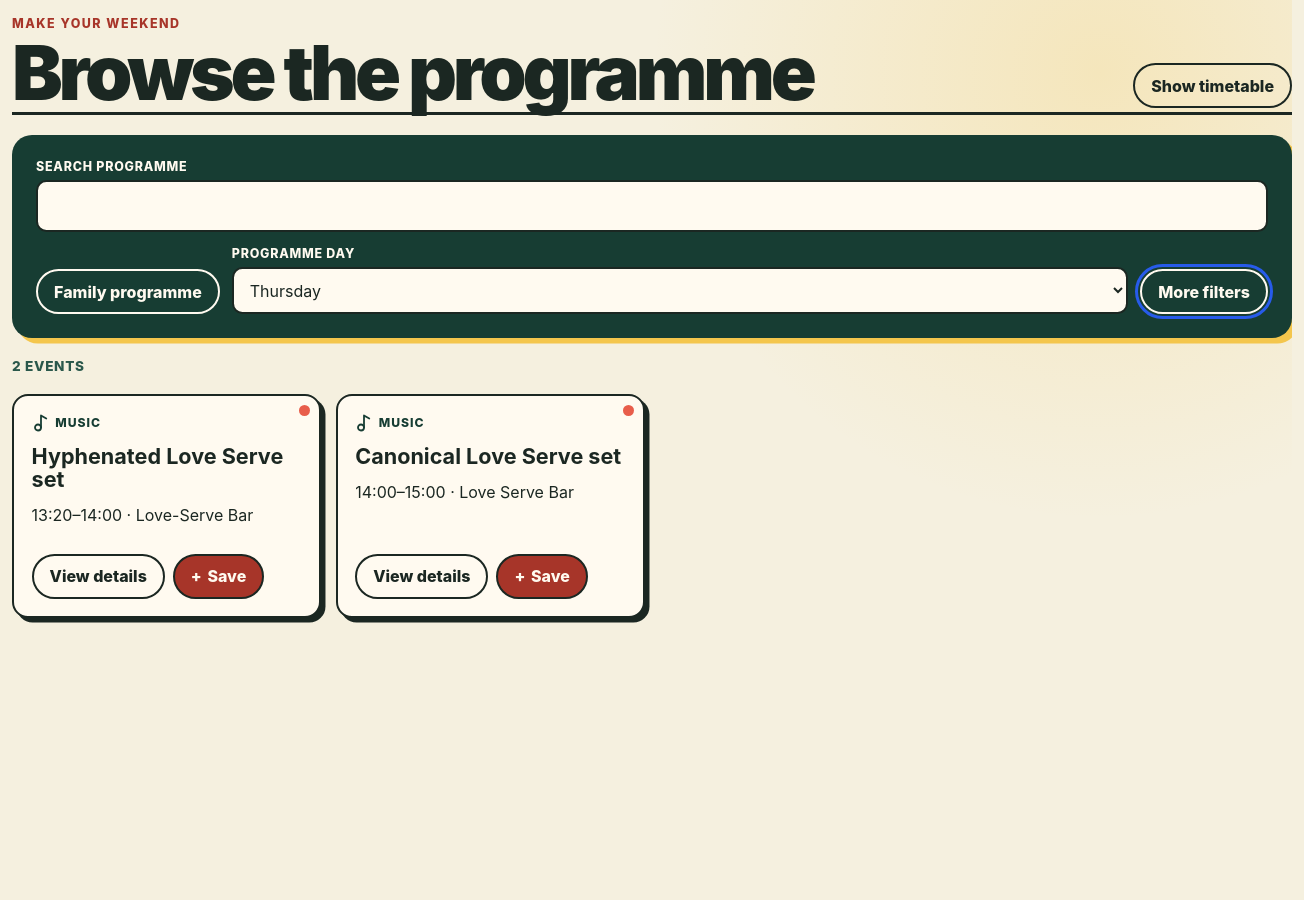
Scenario: BrowseView › discloses canonical secondary filters and clears them through planner state
Expected: the dropdown labelled "Venue" is not shown
Expected: the button "Family programme" is shown, [36,269,220,314]
Press Enter
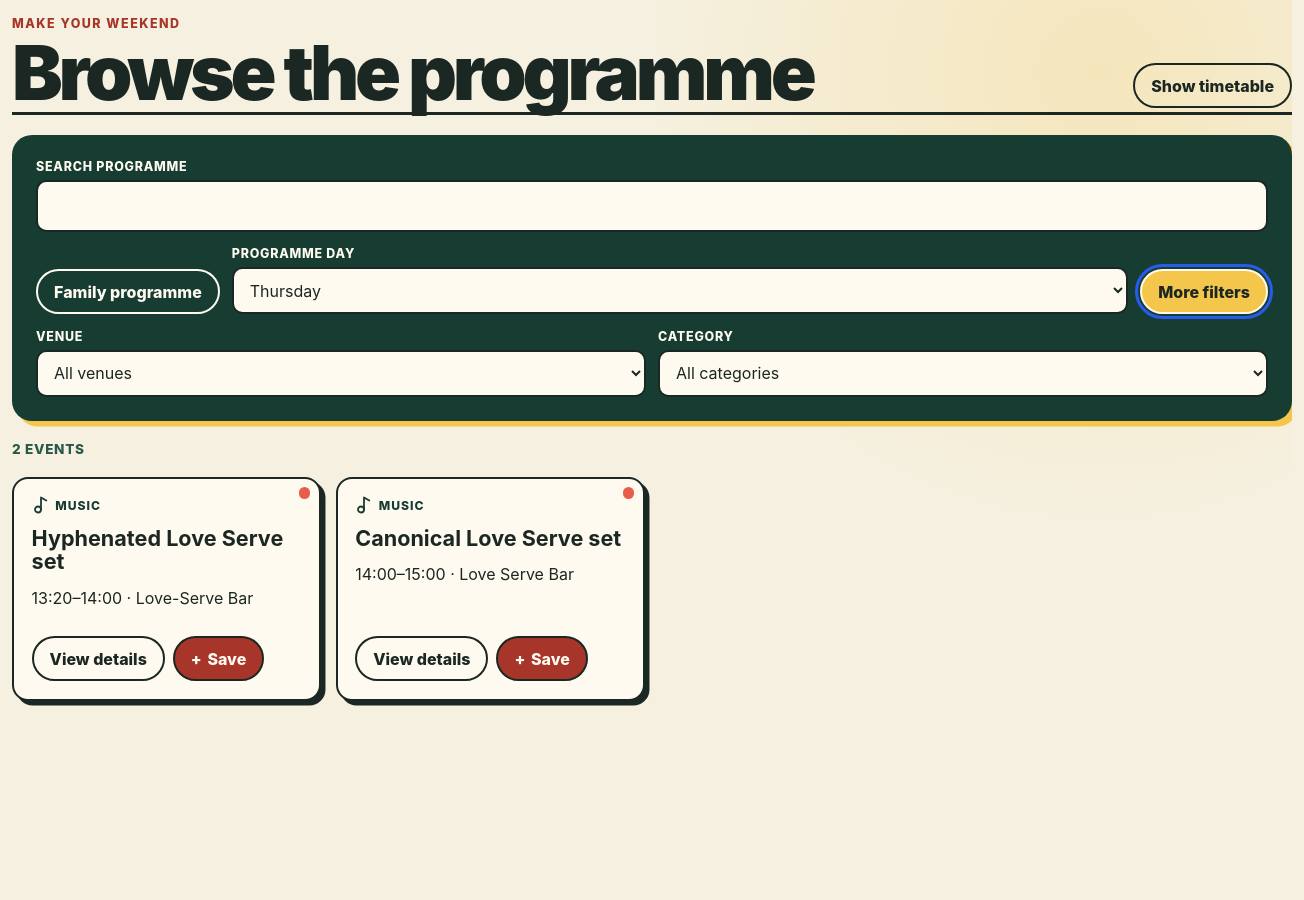
Result: the button "More filters" is expanded at [1140,269,1268,314]
Press Enter
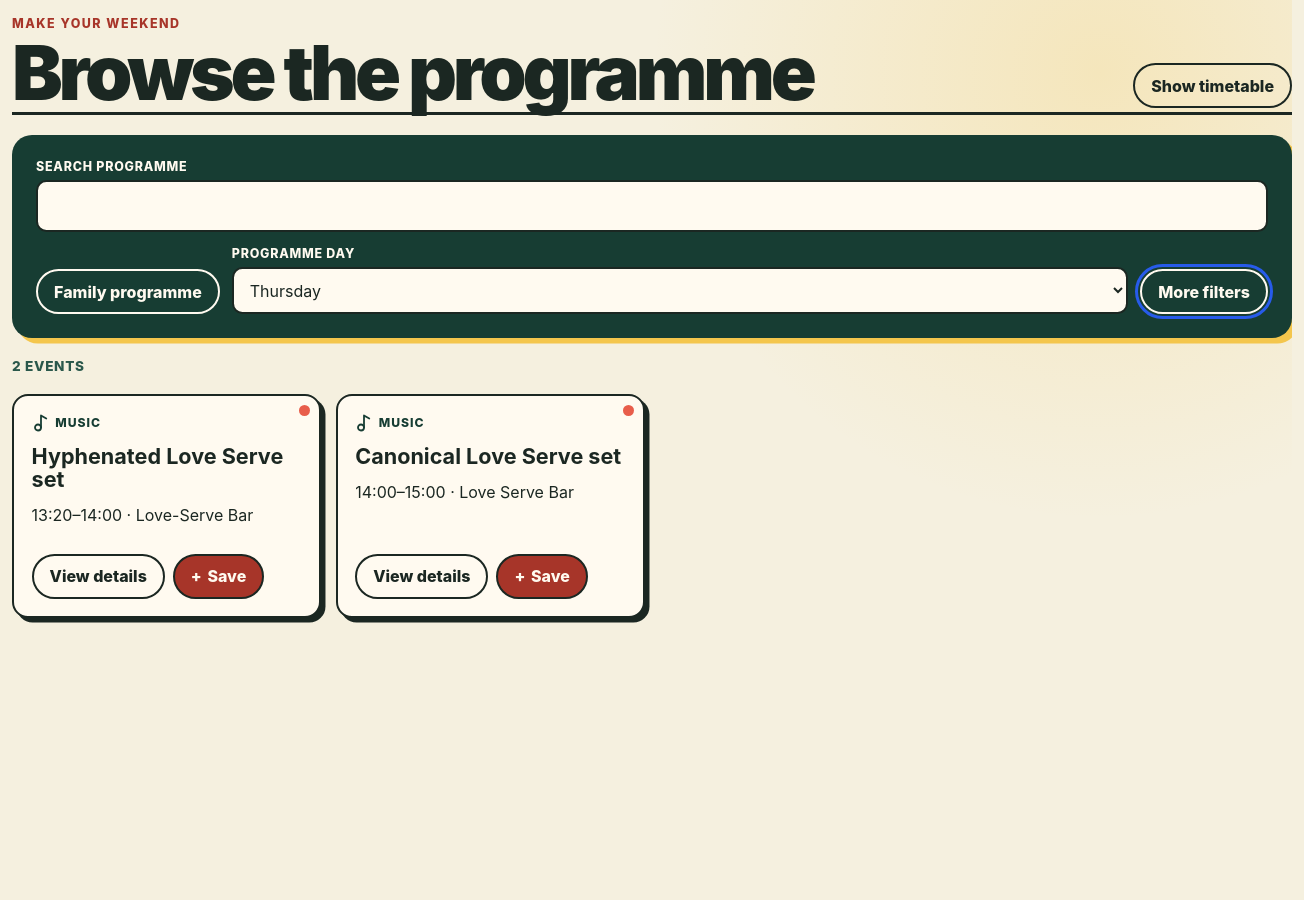
Result: the button "More filters" is collapsed
Result: the text "Venue" is gone
Click the button "More filters" at (1204,292), box [1140,269,1268,314]
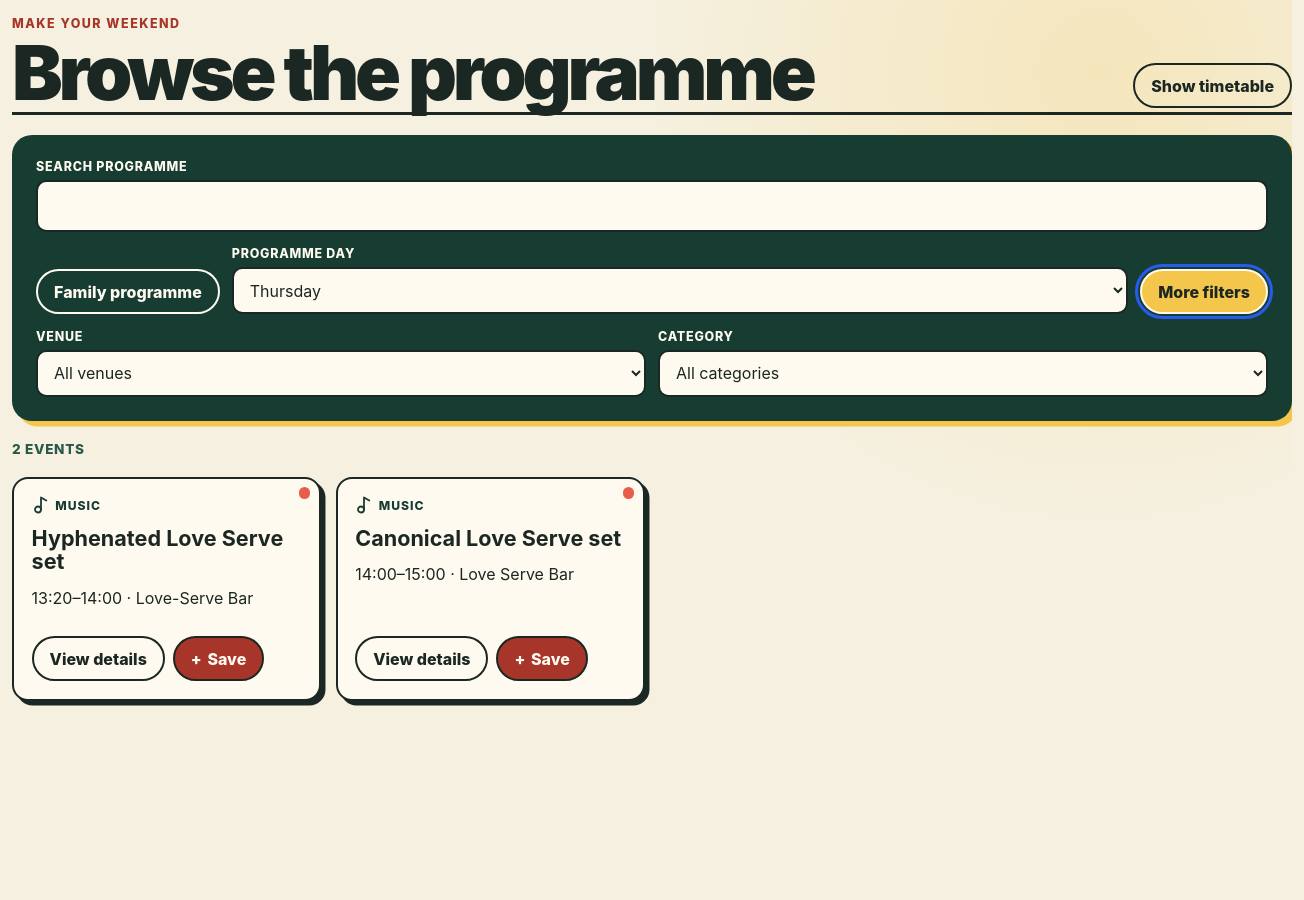
Result: the button "More filters" is expanded at [1140,269,1268,314]
Select "Love Serve Bar" in the dropdown labelled "Venue" at (341,373), box [36,350,646,397]
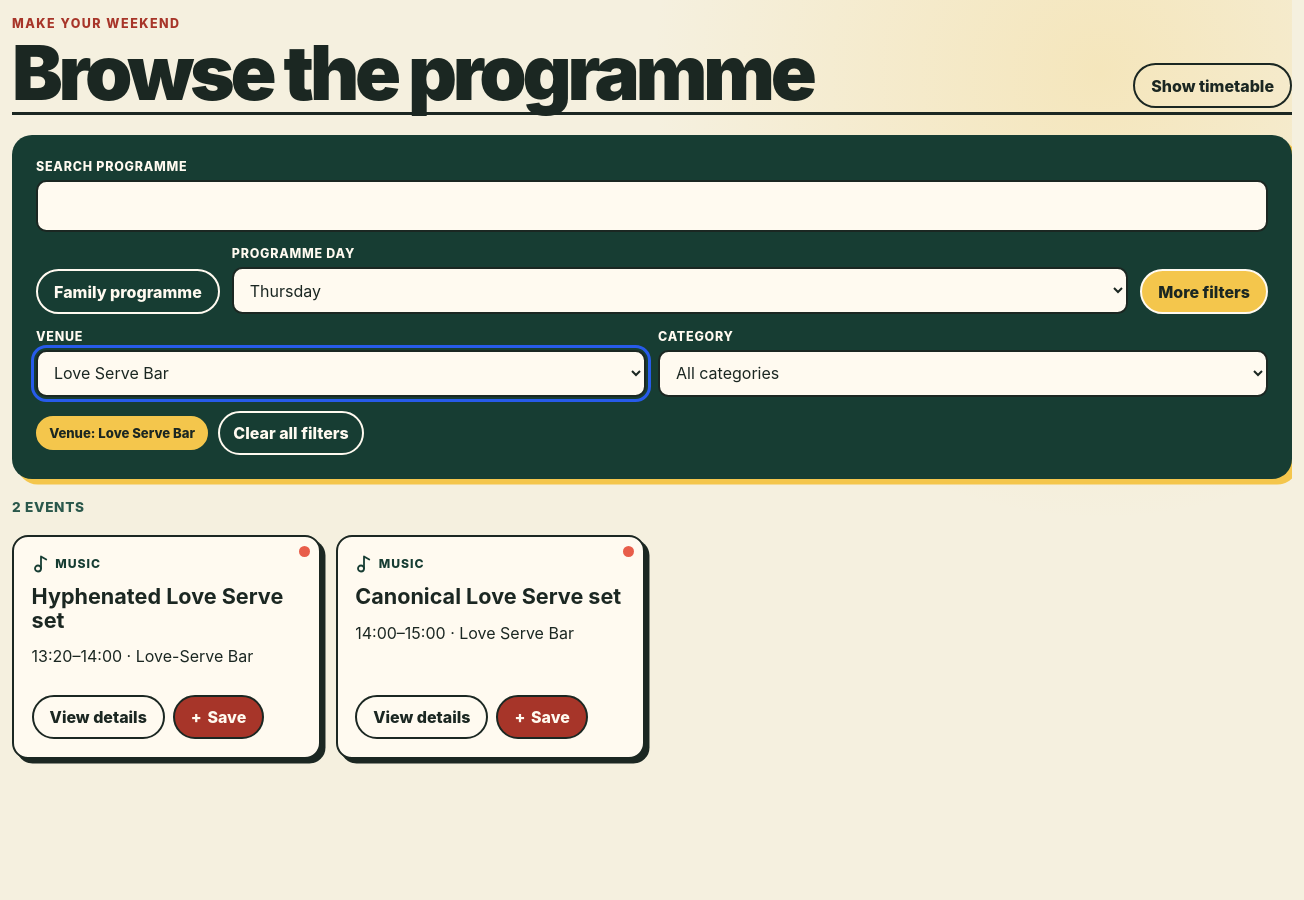
Expected: the element "Hyphenated Love Serve set" is shown, [12,535,321,759]
Result: the text "Venue: Love Serve Bar" is shown at [36,416,208,450]
Click the button "Clear all filters" at (291,433), box [218,411,364,455]
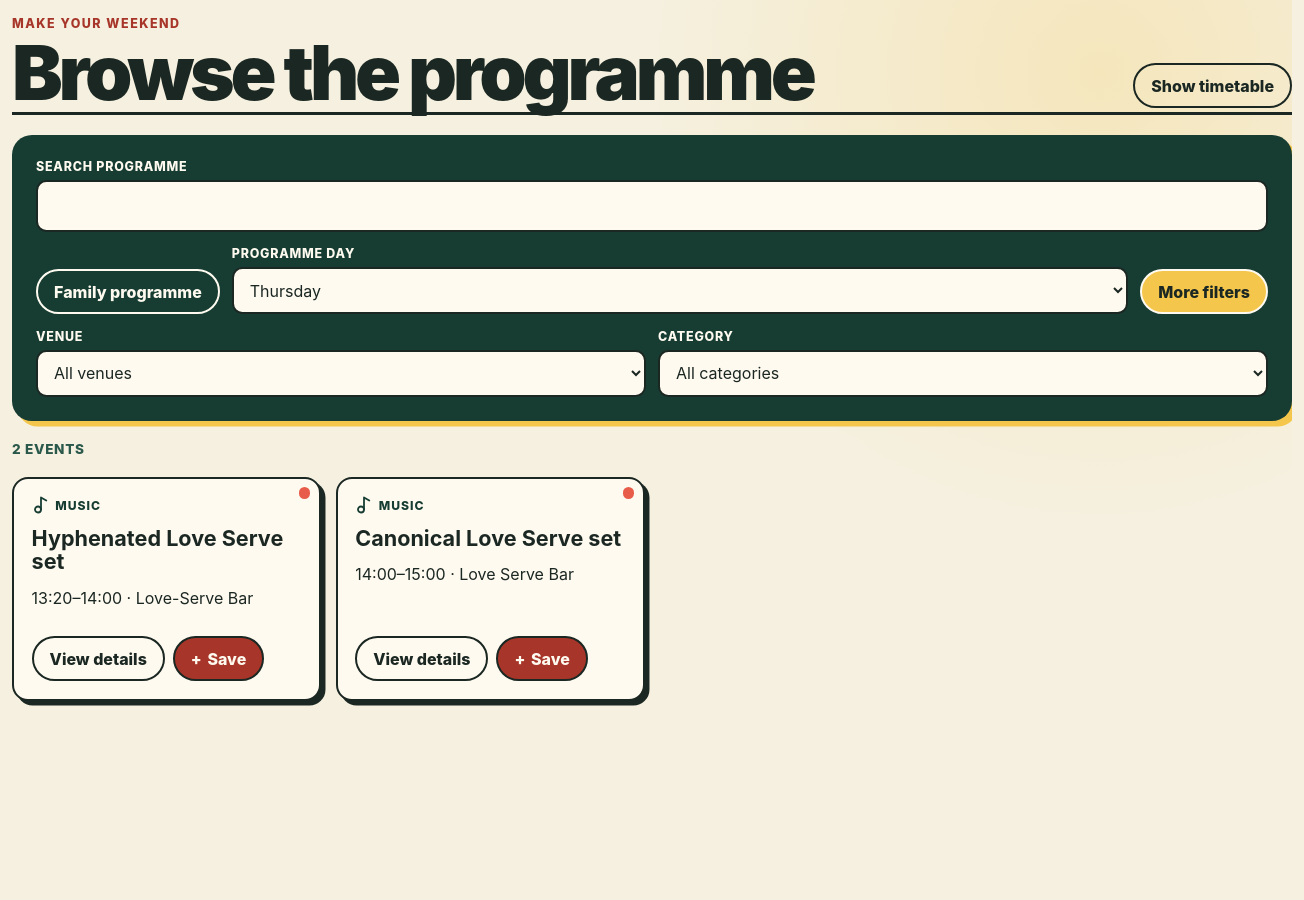
Expected: the dropdown labelled "Programme Day" shows "Thursday", [232,267,1128,314]
Result: the text "Venue: Love Serve Bar" is gone
